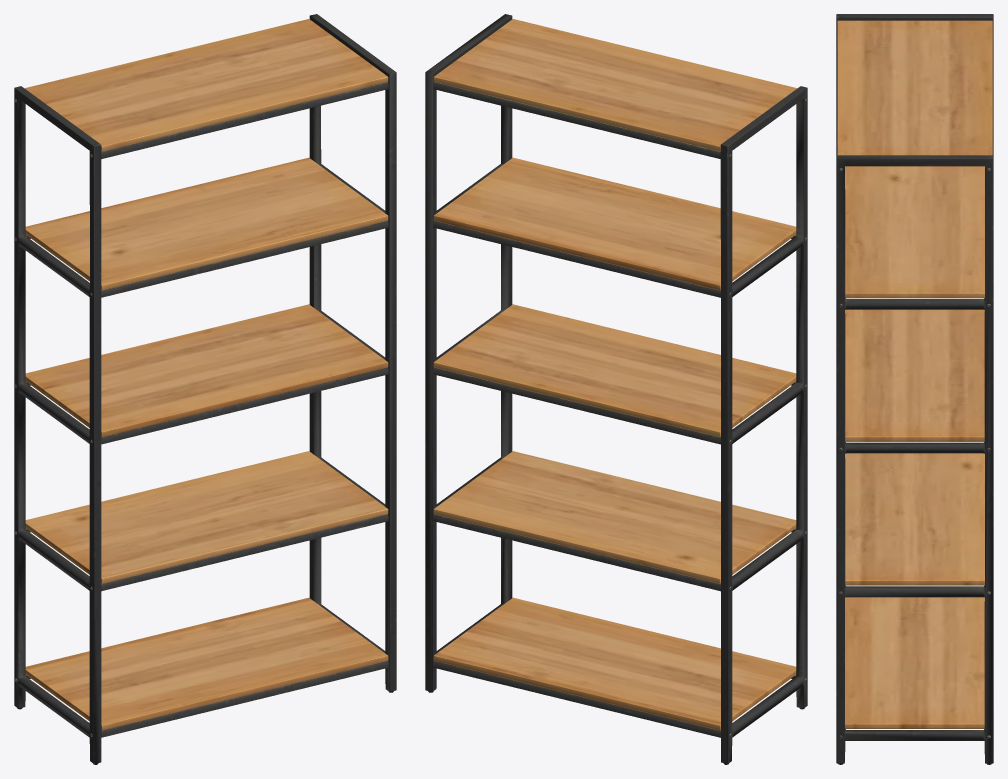
File: metalShelves.glb
The picture shows the model from 3 angles, left to right: view 1: azimuth 30°, elevation 25°; view 2: azimuth 150°, elevation 25°; view 3: azimuth 270°, elevation 25°; orthographic projection. The views are drawn at different scales.
Visible parts, largest first — view 1: steel_frame_shelves_01; view 2: steel_frame_shelves_01; view 3: steel_frame_shelves_01.
Part boxes in pixels (bbox=[...]): steel_frame_shelves_01: bbox=[14, 14, 396, 764]; steel_frame_shelves_01: bbox=[425, 14, 807, 764]; steel_frame_shelves_01: bbox=[836, 14, 993, 764].
Bounding box in the file's own units: 10.97 × 21.41 × 5.02.
1 material, 1 textured.
